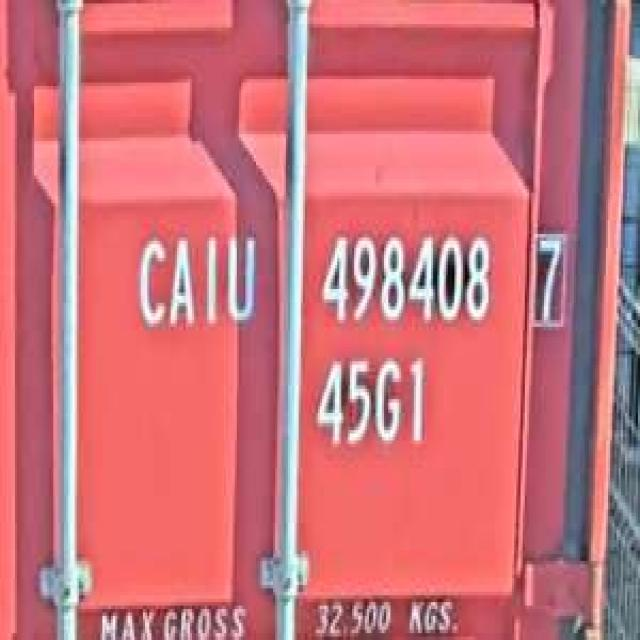dv: (524, 224, 570, 330)
owner: (130, 220, 260, 341)
serial: (314, 220, 497, 337)
size: (309, 348, 431, 461)
